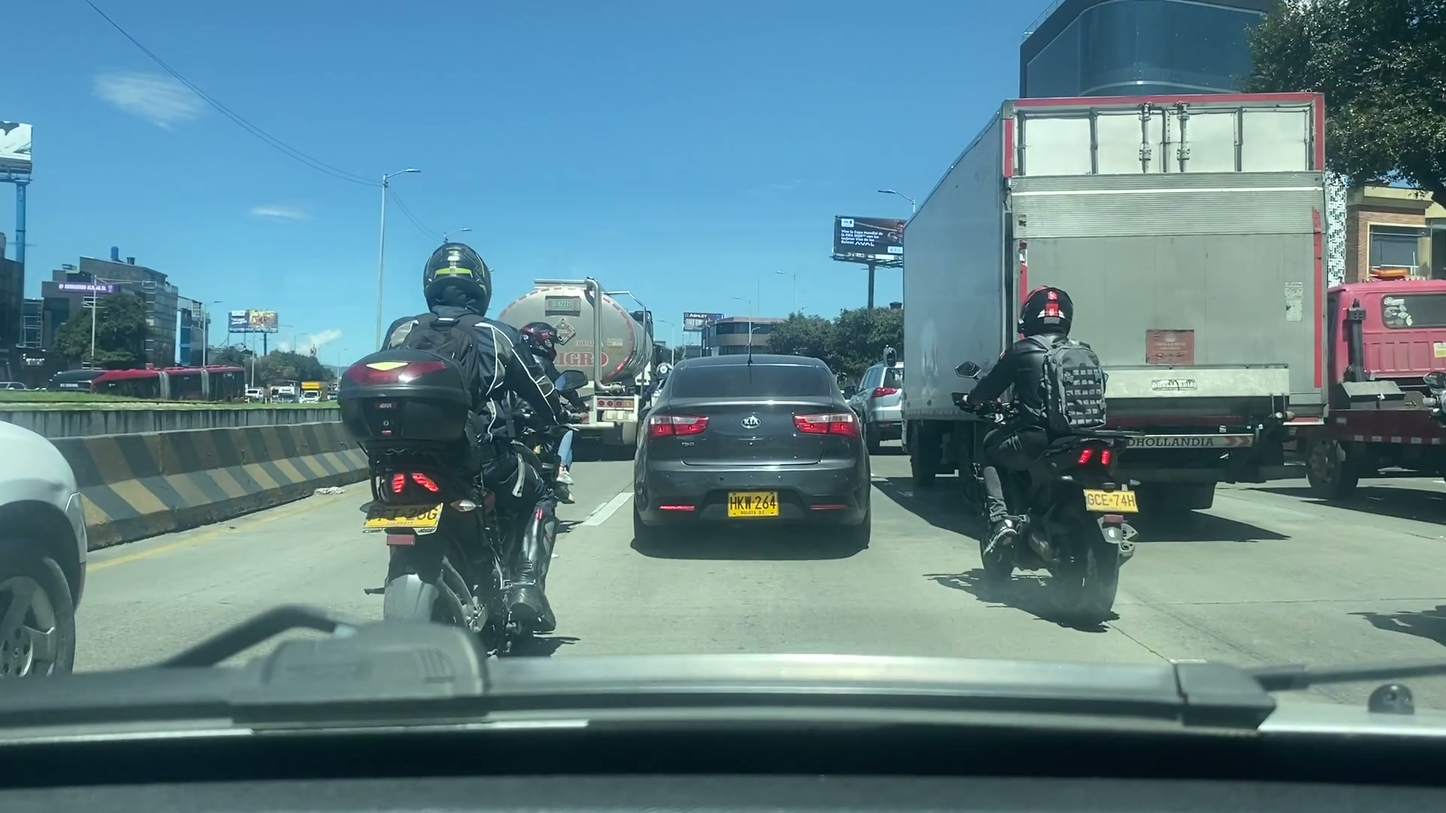car: (633, 348, 871, 544), (0, 419, 87, 681), (844, 355, 906, 442)
motorcycle: (362, 453, 579, 659), (961, 426, 1144, 617)
person: (382, 233, 564, 627), (963, 280, 1105, 553)
truck: (901, 91, 1328, 524), (1306, 285, 1446, 497), (488, 279, 657, 444)
